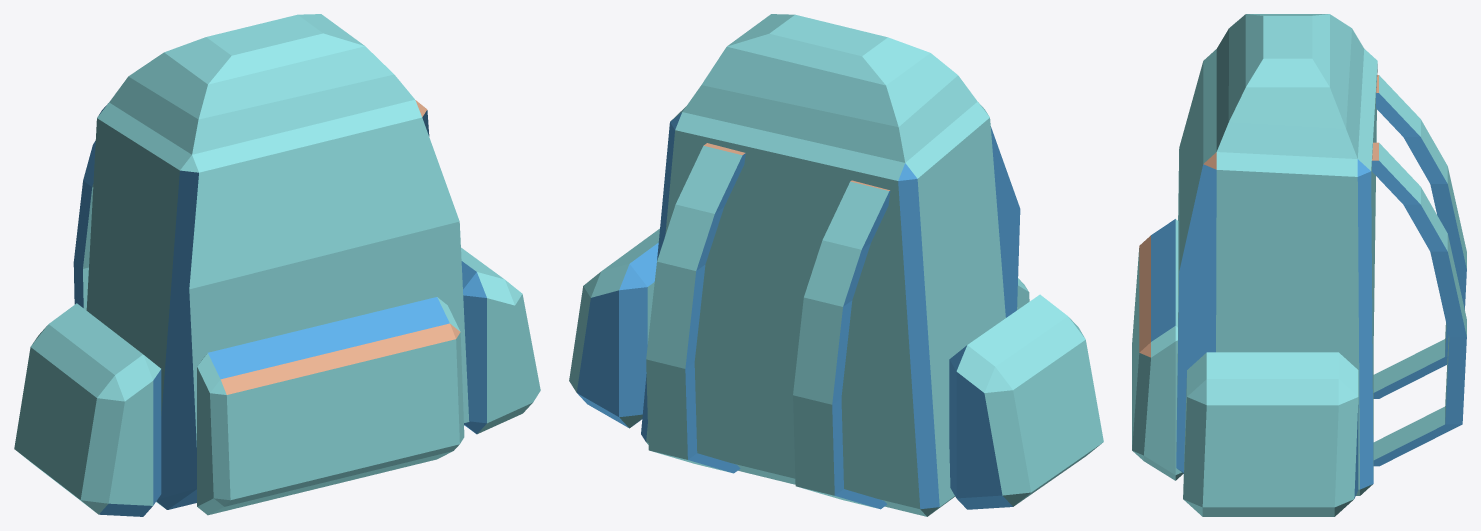
File: Backpack_ColliderTest.fbx
3 views of the same model, side by side, from view 1: azimuth 30°, elevation 25°; view 2: azimuth 150°, elevation 25°; view 3: azimuth 270°, elevation 25° (orthographic). The views are drawn at different scales.
Parts seen in each view (by area): view 1: 큐브; view 2: 큐브; view 3: 큐브.
Part boxes in pixels (x1,y1,x2,y2): 큐브: (14,14,540,516); 큐브: (569,14,1103,516); 큐브: (1132,14,1466,516).
Size of what is drawn, in the model's own units: 591 by 510 by 391.
